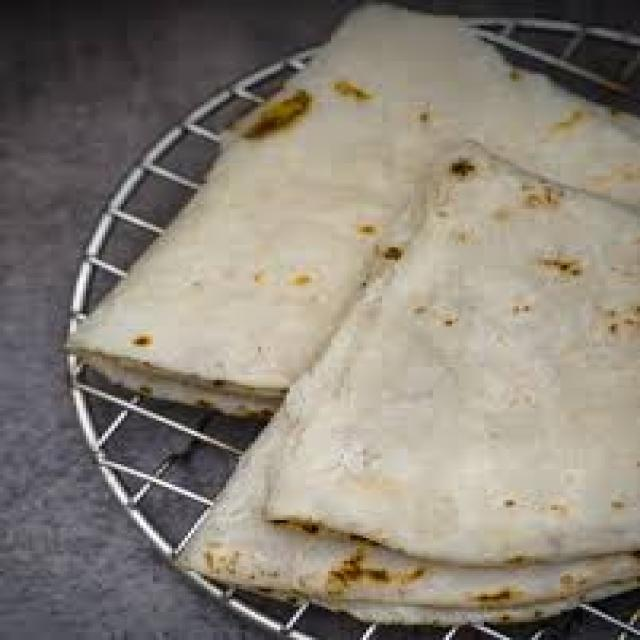RICE BHAKRI: (74, 0, 637, 421), (165, 143, 637, 624)
